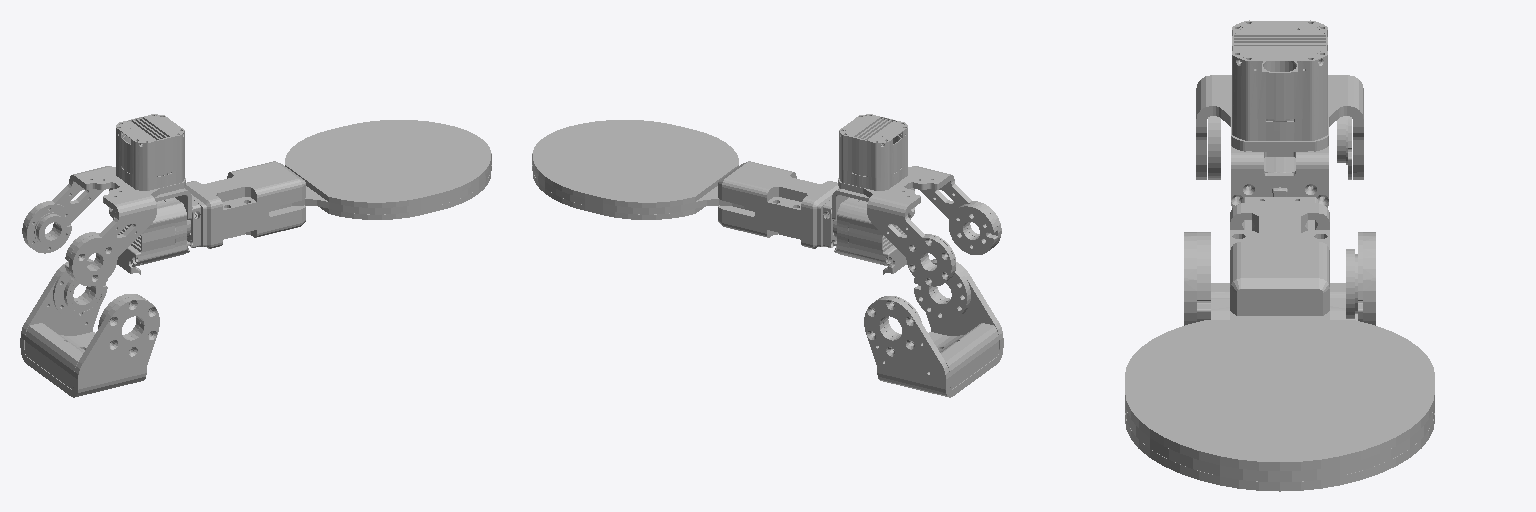
URDF robot description (panthera_ht_ros_description):
<?xml version="1.0" encoding="utf-8"?>
 <!-- This URDF was automatically created by SolidWorks to URDF Exporter! Originally created by Stephen Brawner (brawner@gmail.com) 
      Commit Version: 1.6.0-4-g7f85cfe  Build Version: 1.6.7995.38578
      For more information, please see http://wiki.ros.org/sw_urdf_exporter -->
 <robot name="panthera_ht_ros_description">
  <mujoco>
    <compiler meshdir="../meshes/" balanceinertia="true" discardvisual="false" />
  </mujoco>

   <link name="base_link">
     <inertial>
       <origin xyz="5.789e-05 -0.00015938 0.02298649" rpy="0 0 0" />
       <mass value="0.62922454" />
       <inertia ixx="0.00061305" ixy="-1.32e-06" ixz="1.69e-06" iyy="0.00063876" iyz="-2.1e-07" izz="0.0007565" />
     </inertial>
     <visual>
       <origin xyz="0 0 0" rpy="0 0 0" />
       <geometry>
         <mesh filename="package://panthera_ht_ros_description/meshes/base_link.STL" />
       </geometry>
       <material name="">
         <color rgba="0.752941176470588 0.752941176470588 0.752941176470588 1" />
       </material>
     </visual>
     <collision>
       <origin xyz="0 0 0" rpy="0 0 0" />
       <geometry>
         <mesh filename="package://panthera_ht_ros_description/meshes/base_link.STL" />
       </geometry>
     </collision>
   </link>
   <link name="link1">
     <inertial>
       <origin xyz="0.00278873 -0.00094387 0.02491842" rpy="0 0 0" />
       <mass value="0.28101551" />
       <inertia ixx="0.00039386" ixy="3.75e-06" ixz="-3.733e-05" iyy="0.0002136" iyz="7.17e-06" izz="0.00037066" />
     </inertial>
     <visual>
       <origin xyz="0 0 0" rpy="0 0 0" />
       <geometry>
         <mesh filename="package://panthera_ht_ros_description/meshes/link1.STL" />
       </geometry>
       <material name="">
         <color rgba="0.752941176470588 0.752941176470588 0.752941176470588 1" />
       </material>
     </visual>
     <collision>
       <origin xyz="0 0 0" rpy="0 0 0" />
       <geometry>
         <mesh filename="package://panthera_ht_ros_description/meshes/link1.STL" />
       </geometry>
     </collision>
   </link>
   <joint name="joint1" type="revolute">
     <origin xyz="0 0 0.0584" rpy="0 0 0" />
     <parent link="base_link" />
     <child link="link1" />
     <axis xyz="0 0 1" />
     <limit lower="-2.4" upper="2.4" effort="21" velocity="4.2" />
   </joint>
   <link name="link2">
     <inertial>
       <origin xyz="-0.12936212 -0.00213339 7.183e-05" rpy="0 0 0" />
       <mass value="1.5165092" />
       <inertia ixx="0.00044711" ixy="3.071e-05" ixz="-5.119e-05" iyy="0.02261049" iyz="3.01e-06" izz="0.02272105" />
     </inertial>
     <visual>
       <origin xyz="0 0 0" rpy="0 0 0" />
       <geometry>
         <mesh filename="package://panthera_ht_ros_description/meshes/link2.STL" />
       </geometry>
       <material name="">
         <color rgba="0.752941176470588 0.752941176470588 0.752941176470588 1" />
       </material>
     </visual>
     <collision>
       <origin xyz="0 0 0" rpy="0 0 0" />
       <geometry>
         <mesh filename="package://panthera_ht_ros_description/meshes/link2.STL" />
       </geometry>
     </collision>
   </link>
   <joint name="joint2" type="revolute">
     <origin xyz="0.018199 0 0.053" rpy="0 0 0" />
     <parent link="link1" />
     <child link="link2" />
     <axis xyz="0 1 0" />
     <limit lower="0.0" upper="3.2" effort="36" velocity="5" />
   </joint>
   <link name="link3">
     <inertial>
       <origin xyz="0.16343103 -0.00164646 0.05337427" rpy="0 0 0" />
       <mass value="0.66917784" />
       <inertia ixx="0.00061339" ixy="-1.439e-05" ixz="-0.00070321" iyy="0.00538615" iyz="-1.404e-05" izz="0.00532976" />
     </inertial>
     <visual>
       <origin xyz="0 0 0" rpy="0 0 0" />
       <geometry>
         <mesh filename="package://panthera_ht_ros_description/meshes/link3.STL" />
       </geometry>
       <material name="">
         <color rgba="0.752941176470588 0.752941176470588 0.752941176470588 1" />
       </material>
     </visual>
     <collision>
       <origin xyz="0 0 0" rpy="0 0 0" />
       <geometry>
         <mesh filename="package://panthera_ht_ros_description/meshes/link3.STL" />
       </geometry>
     </collision>
   </link>
   <joint name="joint3" type="revolute">
     <origin xyz="-0.26 0 0" rpy="0 0 0" />
     <parent link="link2" />
     <child link="link3" />
     <axis xyz="0 -1 0" />
     <limit lower="0.0" upper="4.0" effort="36" velocity="5" />
   </joint>
   <link name="link4">
     <inertial>
       <origin xyz="0.05240131 -0.00055249 0.04094177" rpy="0 0 0" />
       <mass value="0.30780516" />
       <inertia ixx="0.00025787" ixy="-1.011e-05" ixz="-0.00017337" iyy="0.00039454" iyz="-8.09e-06" izz="0.00035094" />
     </inertial>
     <visual>
       <origin xyz="0 0 0" rpy="0 0 0" />
       <geometry>
         <mesh filename="package://panthera_ht_ros_description/meshes/link4.STL" />
       </geometry>
       <material name="">
         <color rgba="0.752941176470588 0.752941176470588 0.752941176470588 1" />
       </material>
     </visual>
     <collision>
       <origin xyz="0 0 0" rpy="0 0 0" />
       <geometry>
         <mesh filename="package://panthera_ht_ros_description/meshes/link4.STL" />
       </geometry>
     </collision>
   </link>
   <joint name="joint4" type="revolute">
     <origin xyz="0.23 0 0.06" rpy="0 0 0" />
     <parent link="link3" />
     <child link="link4" />
     <axis xyz="0 -1 0" />
     <limit lower="-1.6" upper="1.6" effort="21" velocity="4.2" />
   </joint>
   <link name="link5">
     <inertial>
       <origin xyz="0.00319091 8.677e-05 -0.03641777" rpy="0 0 0" />
       <mass value="0.28396923" />
       <inertia ixx="0.00012691" ixy="0.0" ixz="-2.4e-07" iyy="0.00013455" iyz="-4.9e-07" izz="0.00010788" />
     </inertial>
     <visual>
       <origin xyz="0 0 0" rpy="0 0 0" />
       <geometry>
         <mesh filename="package://panthera_ht_ros_description/meshes/link5.STL" />
       </geometry>
       <material name="">
         <color rgba="0.752941176470588 0.752941176470588 0.752941176470588 1" />
       </material>
     </visual>
     <collision>
       <origin xyz="0 0 0" rpy="0 0 0" />
       <geometry>
         <mesh filename="package://panthera_ht_ros_description/meshes/link5.STL" />
       </geometry>
     </collision>
   </link>
   <joint name="joint5" type="revolute">
     <origin xyz="0.07 0 0.036319" rpy="0 0 0" />
     <parent link="link4" />
     <child link="link5" />
     <axis xyz="0 0 -1" />
     <limit lower="-1.7" upper="1.7" effort="10" velocity="3.7" />
   </joint>
   <link name="link6">
     <inertial>
       <origin xyz="0.10731798 0.0 9.64e-06" rpy="0 0 0" />
       <mass value="0.34073453" />
       <inertia ixx="0.00025204" ixy="0.0" ixz="4.1e-07" iyy="0.00227113" iyz="0.0" izz="0.00247492" />
     </inertial>
     <visual>
       <origin xyz="0 0 0" rpy="0 0 0" />
       <geometry>
         <mesh filename="package://panthera_ht_ros_description/meshes/link6_ttb.STL" />
       </geometry>
       <material name="">
         <color rgba="0.752941176470588 0.752941176470588 0.752941176470588 1" />
       </material>
     </visual>
     <collision>
       <origin xyz="0 0 0" rpy="0 0 0" />
       <geometry>
         <mesh filename="package://panthera_ht_ros_description/meshes/link6_ttb.STL" />
       </geometry>
     </collision>
   </link>
   <joint name="joint6" type="revolute">
     <origin xyz="0.02345 0 -0.039" rpy="0 0 0" />
     <parent link="link5" />
     <child link="link6" />
     <axis xyz="1 0 0" />
     <limit lower="-2.5" upper="2.5" effort="10" velocity="3.7" />
   </joint>
  <link name="bat_center"/>
  <joint name="bat_center_joint" type="fixed">
    <origin xyz="0.18 0 0" rpy="0 0 0" />
    <parent link="link6" />
    <child link="bat_center" />
  </joint>
  <link name="camera_mount_link"/>
  <joint name="camera_mount_joint" type="fixed">
    <origin xyz="0.4 -0.25 0.35" rpy="0 0 0" />
    <parent link="base_link" />
    <child link="camera_mount_link" />
  </joint>
 </robot>

--- Render facts (derived) ---
Views: 3 orthographic renders of the robot side by side, from view 1: azimuth 30°, elevation 25°; view 2: azimuth 150°, elevation 25°; view 3: azimuth 270°, elevation 25°.
Model panthera_ht_ros_description with 9 links and 8 joints (6 revolute, 2 fixed), rooted at base_link, posed every joint at zero.
Links seen in each view (by area): view 1: link6, link4, link1, link5; view 2: link6, link4, link1, link5; view 3: link6, link4, link1, link5.
Link boxes in pixels (x1,y1,x2,y2): link6: (185,120,491,248); link4: (22,114,185,286); link1: (20,258,159,397); link5: (109,188,191,274); link6: (532,120,838,248); link4: (838,114,1001,286); link1: (864,259,1003,397); link5: (832,188,914,274); link6: (1125,187,1434,491); link4: (1196,20,1363,179); link1: (1184,232,1375,325); link5: (1231,146,1328,207).
Bounding box of the posed robot: 0.3789 × 0.14 × 0.1927 m (x, y, z).
4 mesh visuals loaded from 7 distinct referenced files (4 binary STL); not drawn: 3 (reference not matched to a file when rendering).
